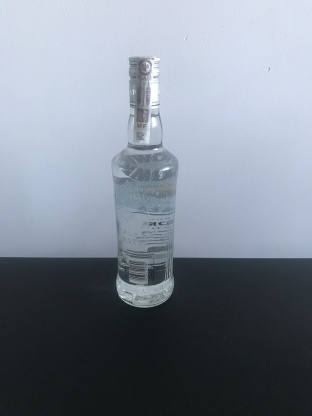nakretka: (124, 53, 163, 110)
